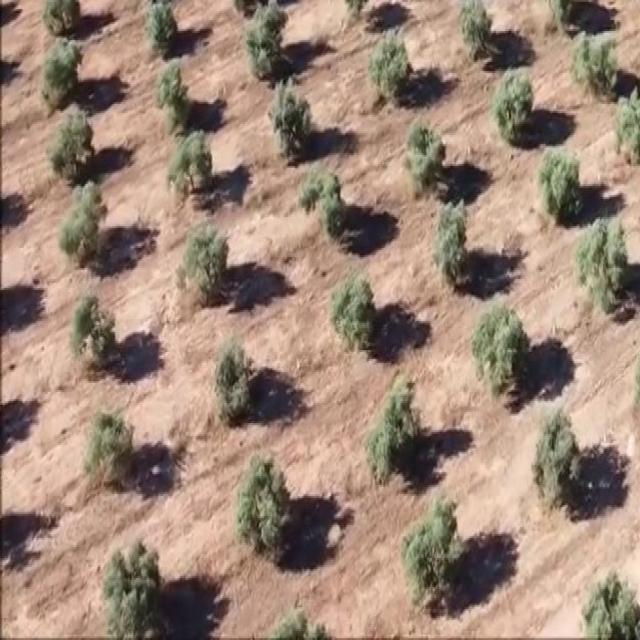trees: (518, 403, 598, 538), (392, 490, 474, 614), (91, 520, 172, 640), (357, 372, 433, 489), (469, 284, 537, 412), (80, 397, 153, 515), (234, 438, 299, 564), (571, 206, 627, 326), (393, 101, 452, 212), (55, 180, 121, 278), (328, 260, 388, 363), (70, 281, 126, 391), (46, 105, 106, 200), (528, 140, 588, 230), (175, 214, 233, 304), (423, 195, 471, 301), (362, 22, 418, 112), (268, 76, 319, 165), (170, 116, 220, 202), (302, 160, 347, 249), (218, 322, 257, 418), (148, 0, 195, 77), (495, 64, 539, 146), (248, 2, 292, 77), (575, 17, 621, 87), (154, 53, 192, 137), (49, 32, 90, 102), (459, 0, 496, 58), (628, 407, 629, 408)
